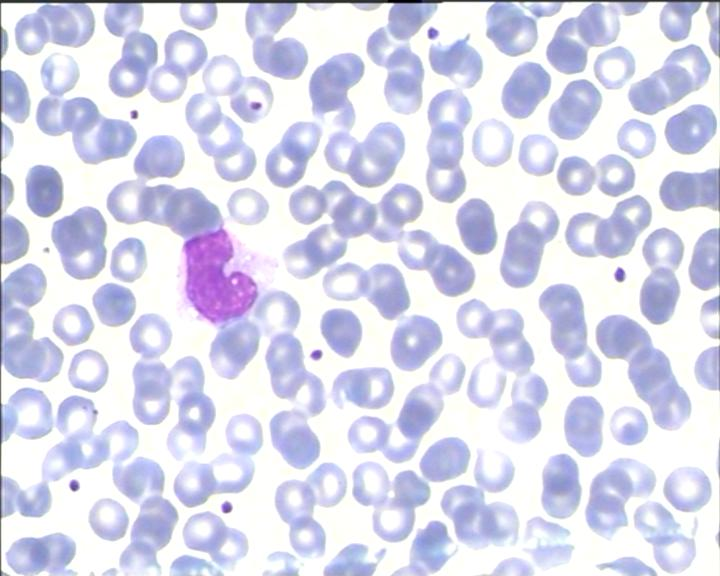mono: (167, 214, 273, 325)
